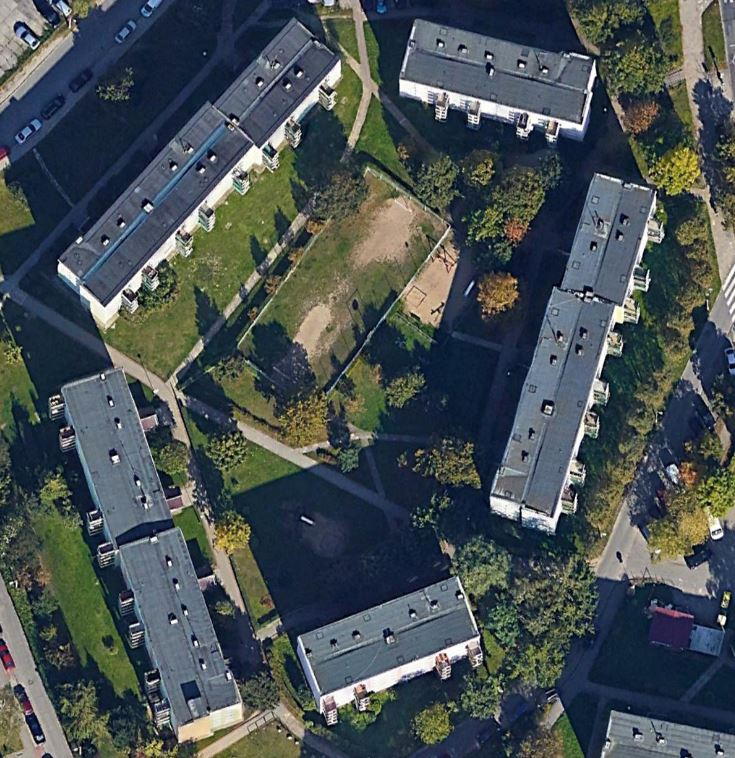block of flats: (51, 16, 354, 335), (37, 356, 264, 749), (468, 168, 679, 544), (289, 566, 496, 731), (378, 17, 616, 151)
